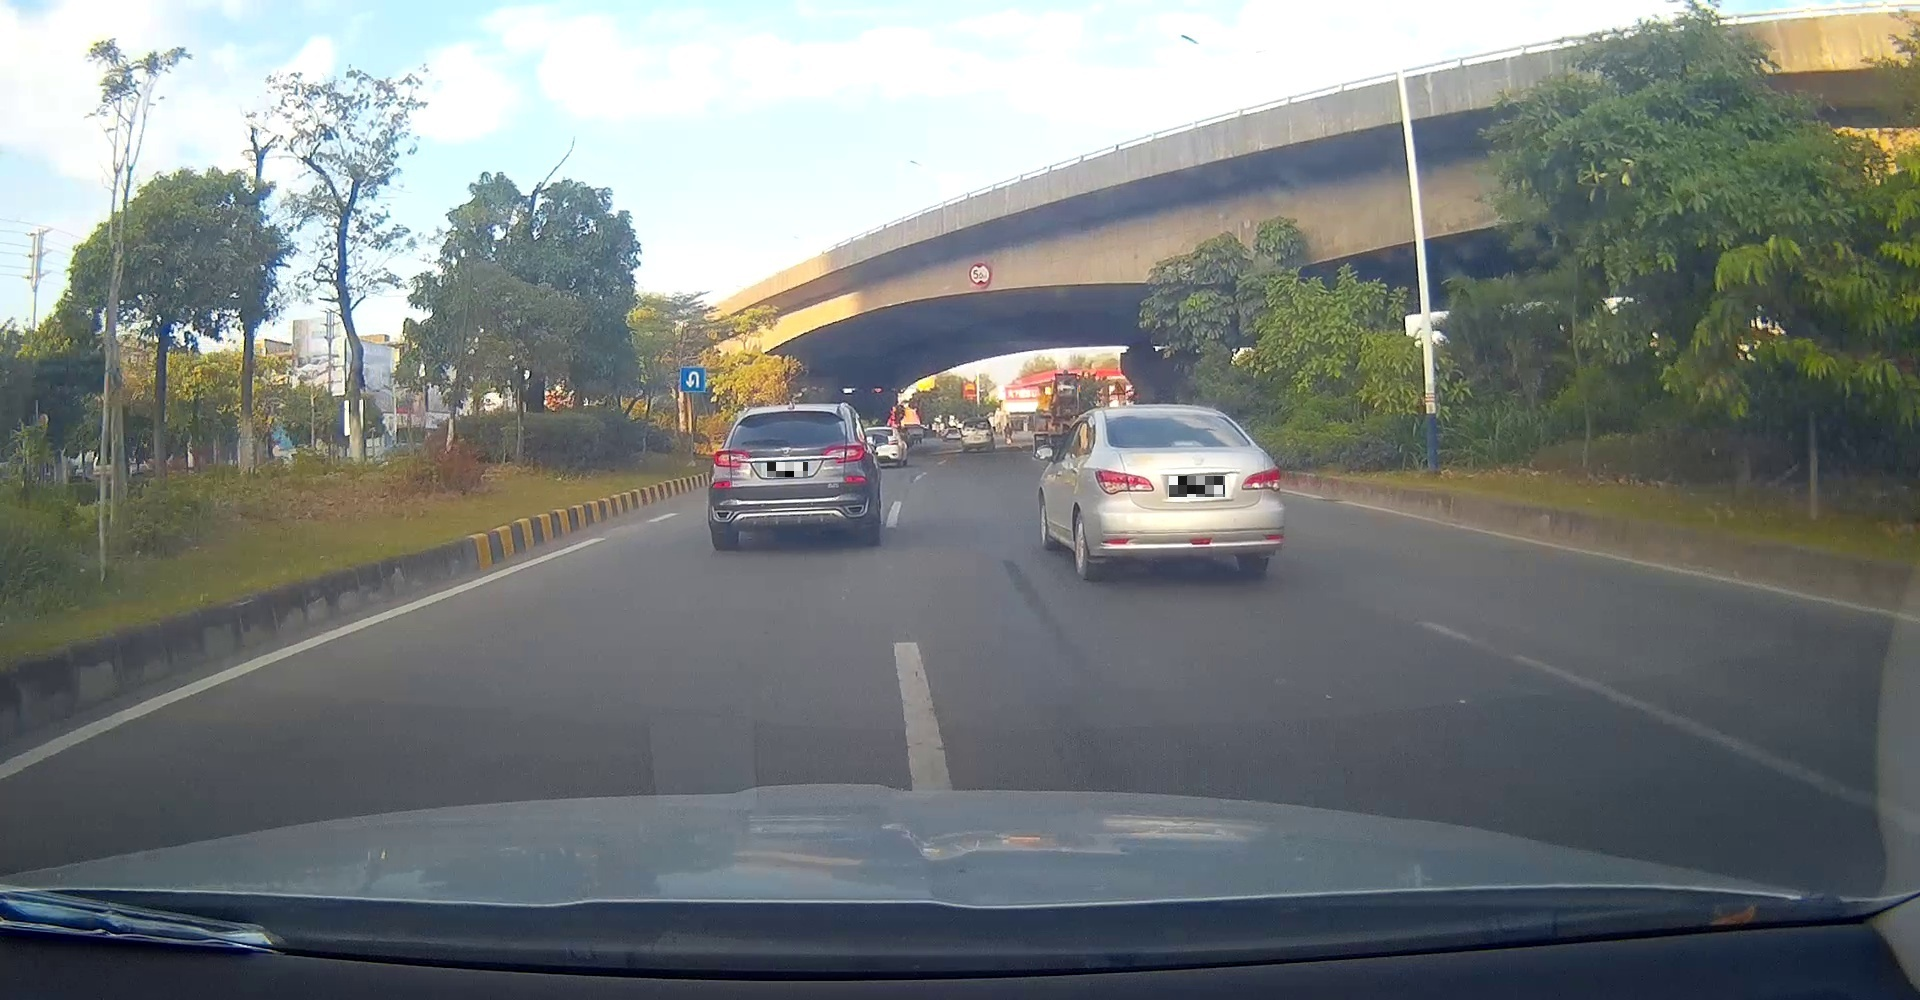L_light: (1095, 470, 1154, 494), (712, 449, 750, 467)
R_light: (1242, 467, 1283, 491), (822, 443, 866, 463)
T_light: (1173, 440, 1203, 445), (776, 411, 801, 415)
day-no: (1093, 406, 1286, 575), (707, 404, 866, 549)
plate_1: (767, 462, 808, 477)
plate_2: (1170, 476, 1225, 497)
